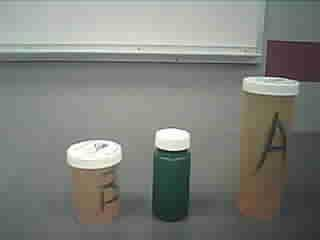Bottle A: (233, 73, 298, 228)
Bottle B: (57, 135, 130, 228)
Bottle C: (150, 123, 201, 225)
